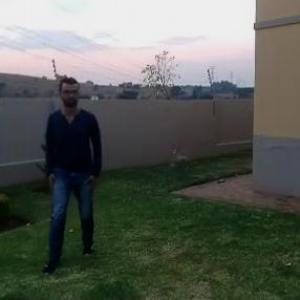follow: (57, 69, 109, 256)
